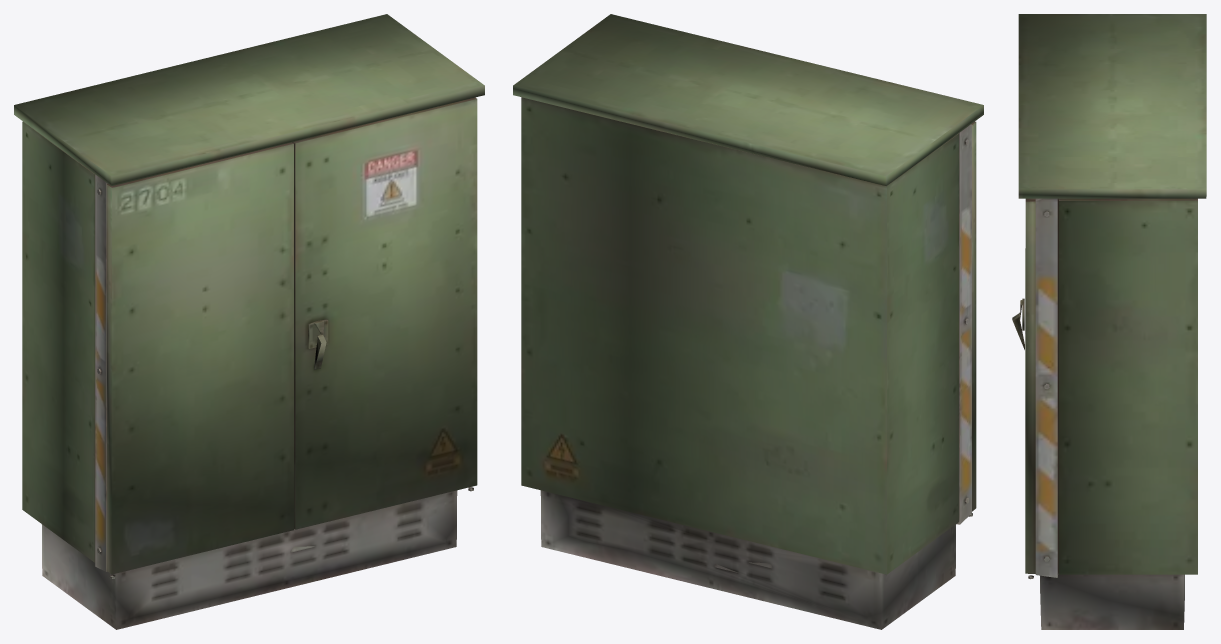
Rendered from utility_box_02.glb.
3 renders of one model, left to right at view 1: azimuth 30°, elevation 25°; view 2: azimuth 150°, elevation 25°; view 3: azimuth 270°, elevation 25°, orthographic. The views are drawn at different scales.
Visible parts, largest first — view 1: utility_box_02; view 2: utility_box_02; view 3: utility_box_02.
Part boxes in pixels (x1,y1,x2,y2): utility_box_02: (14,14,484,629); utility_box_02: (513,14,983,629); utility_box_02: (1012,14,1206,629).
Size of the model in its own units: 0.9157 by 1.09 by 0.4287.
1 material, 1 textured.
